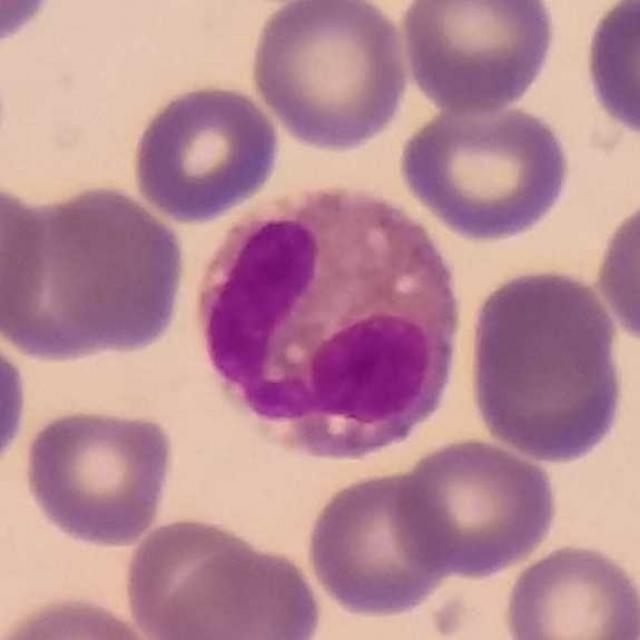eosino: (197, 176, 458, 454)
